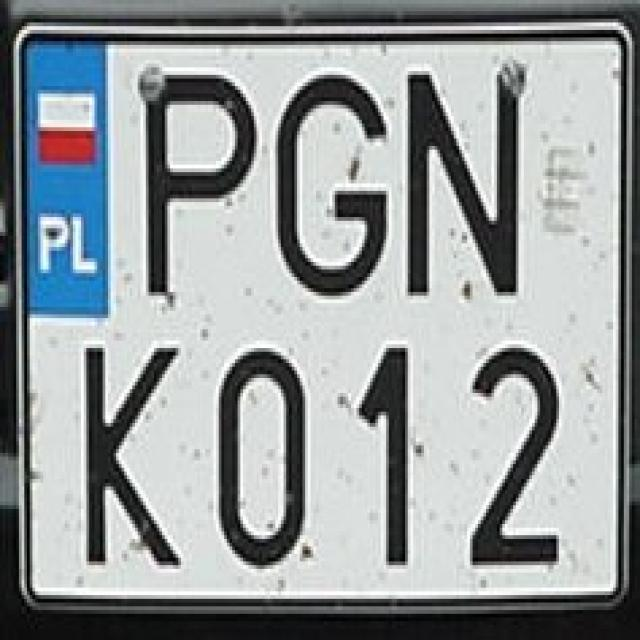pl_license_plate: (19, 26, 618, 595)
